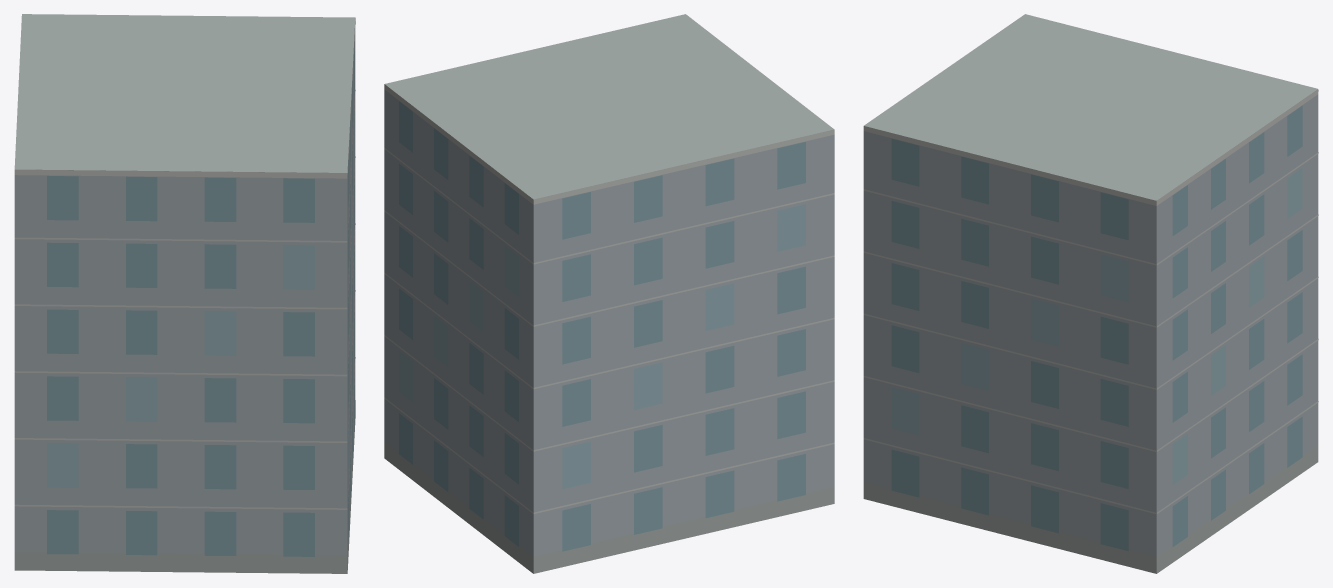
The model's file is survey-upis-32783686.glb.
3 views of the same model, side by side, from view 1: azimuth 30°, elevation 25°; view 2: azimuth 150°, elevation 25°; view 3: azimuth 270°, elevation 25° (orthographic). The views are drawn at different scales.
Parts seen in each view (by area): view 1: survey-upis-32783686.tmp; view 2: survey-upis-32783686.tmp; view 3: survey-upis-32783686.tmp.
Boxes of the visible parts, box(x1,y1,x2,y2) form: survey-upis-32783686.tmp: box(14, 14, 355, 573); survey-upis-32783686.tmp: box(384, 14, 834, 573); survey-upis-32783686.tmp: box(863, 14, 1318, 573).
Size of the model in its own units: 18.71 by 17.4 by 19.24.
